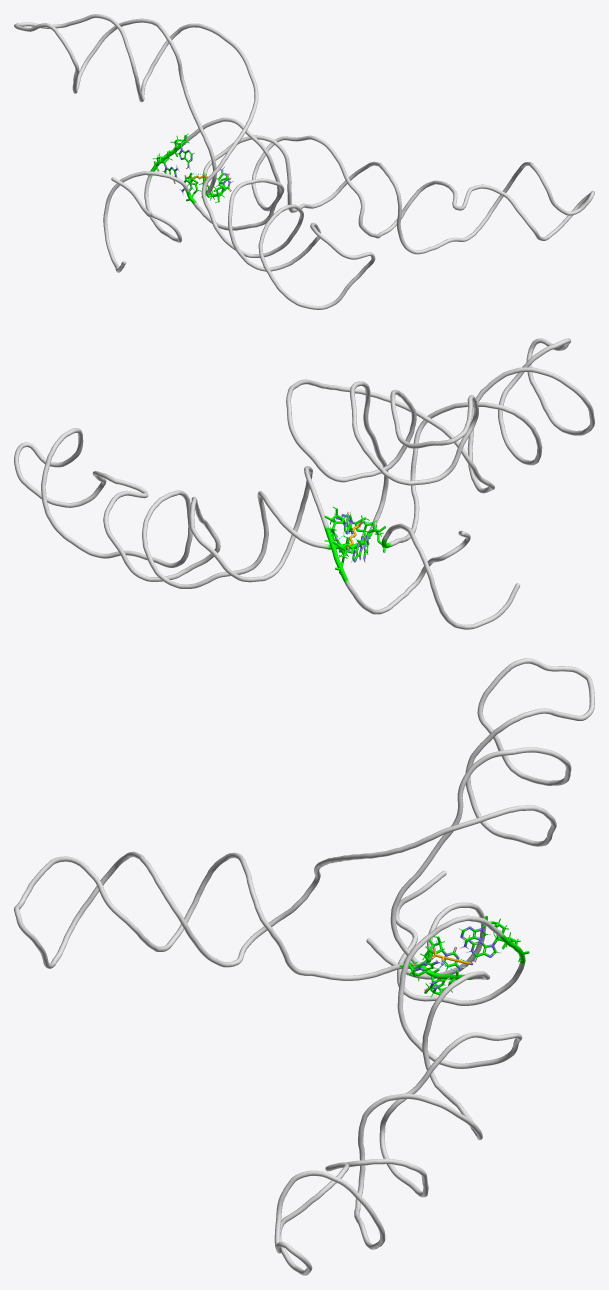
The model's file is AR_pocket.gltf.
3 views of the same model, one above another, from view 1: azimuth 30°, elevation 25°; view 2: azimuth 150°, elevation 25°; view 3: azimuth 270°, elevation 25° (orthographic). The views are drawn at different scales.
Parts seen in each view (by area): view 1: node-geom263, node-geom264; view 2: node-geom263, node-geom264; view 3: node-geom263, node-geom264.
Part boxes in pixels (x1,y1,x2,y2): node-geom263: [14, 14, 594, 309]; node-geom264: [17, 14, 590, 309]; node-geom263: [14, 339, 590, 629]; node-geom264: [16, 338, 594, 624]; node-geom263: [18, 658, 594, 1275]; node-geom264: [14, 660, 591, 1272].
Bounding box in the file's own units: 135 × 71.44 × 107.
